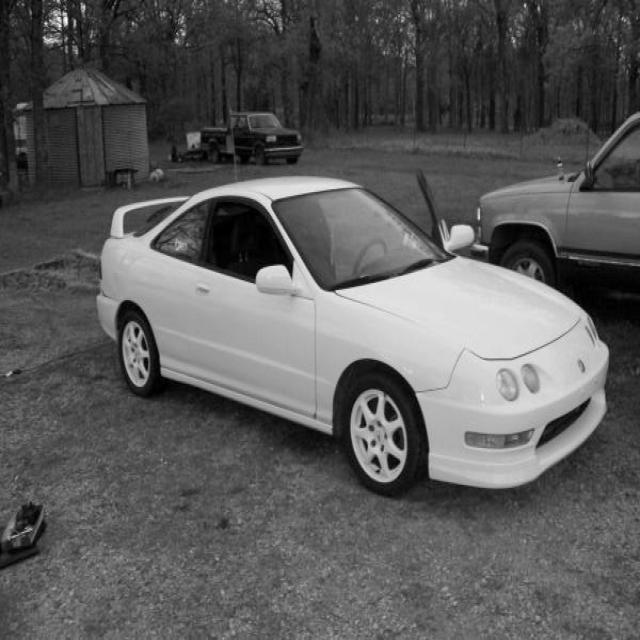car: (95, 172, 610, 498), (469, 109, 639, 306), (186, 111, 303, 165)
